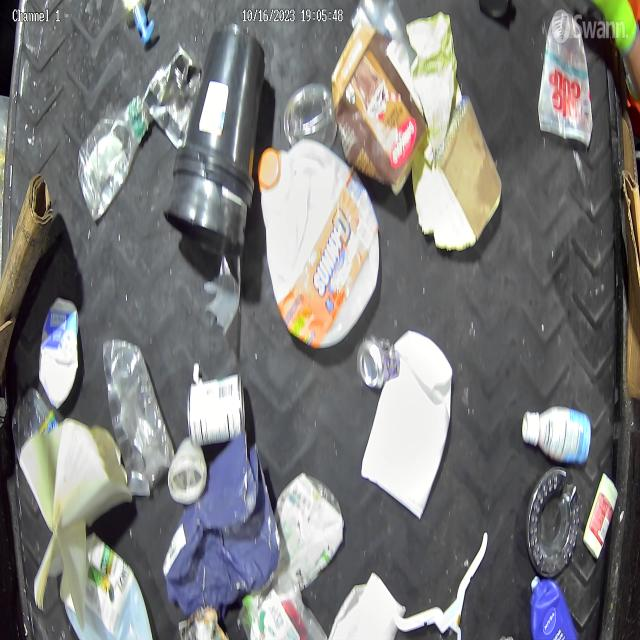can: (144, 39, 204, 149), (186, 373, 246, 444), (358, 336, 398, 388)
milk_jug: (258, 138, 380, 350), (361, 327, 454, 517), (62, 532, 152, 640), (39, 295, 81, 411)
non_white_jug: (166, 23, 266, 258), (162, 436, 282, 616), (332, 21, 425, 192), (408, 10, 462, 186), (529, 573, 580, 640)
plastic_bottle: (78, 95, 150, 219)
